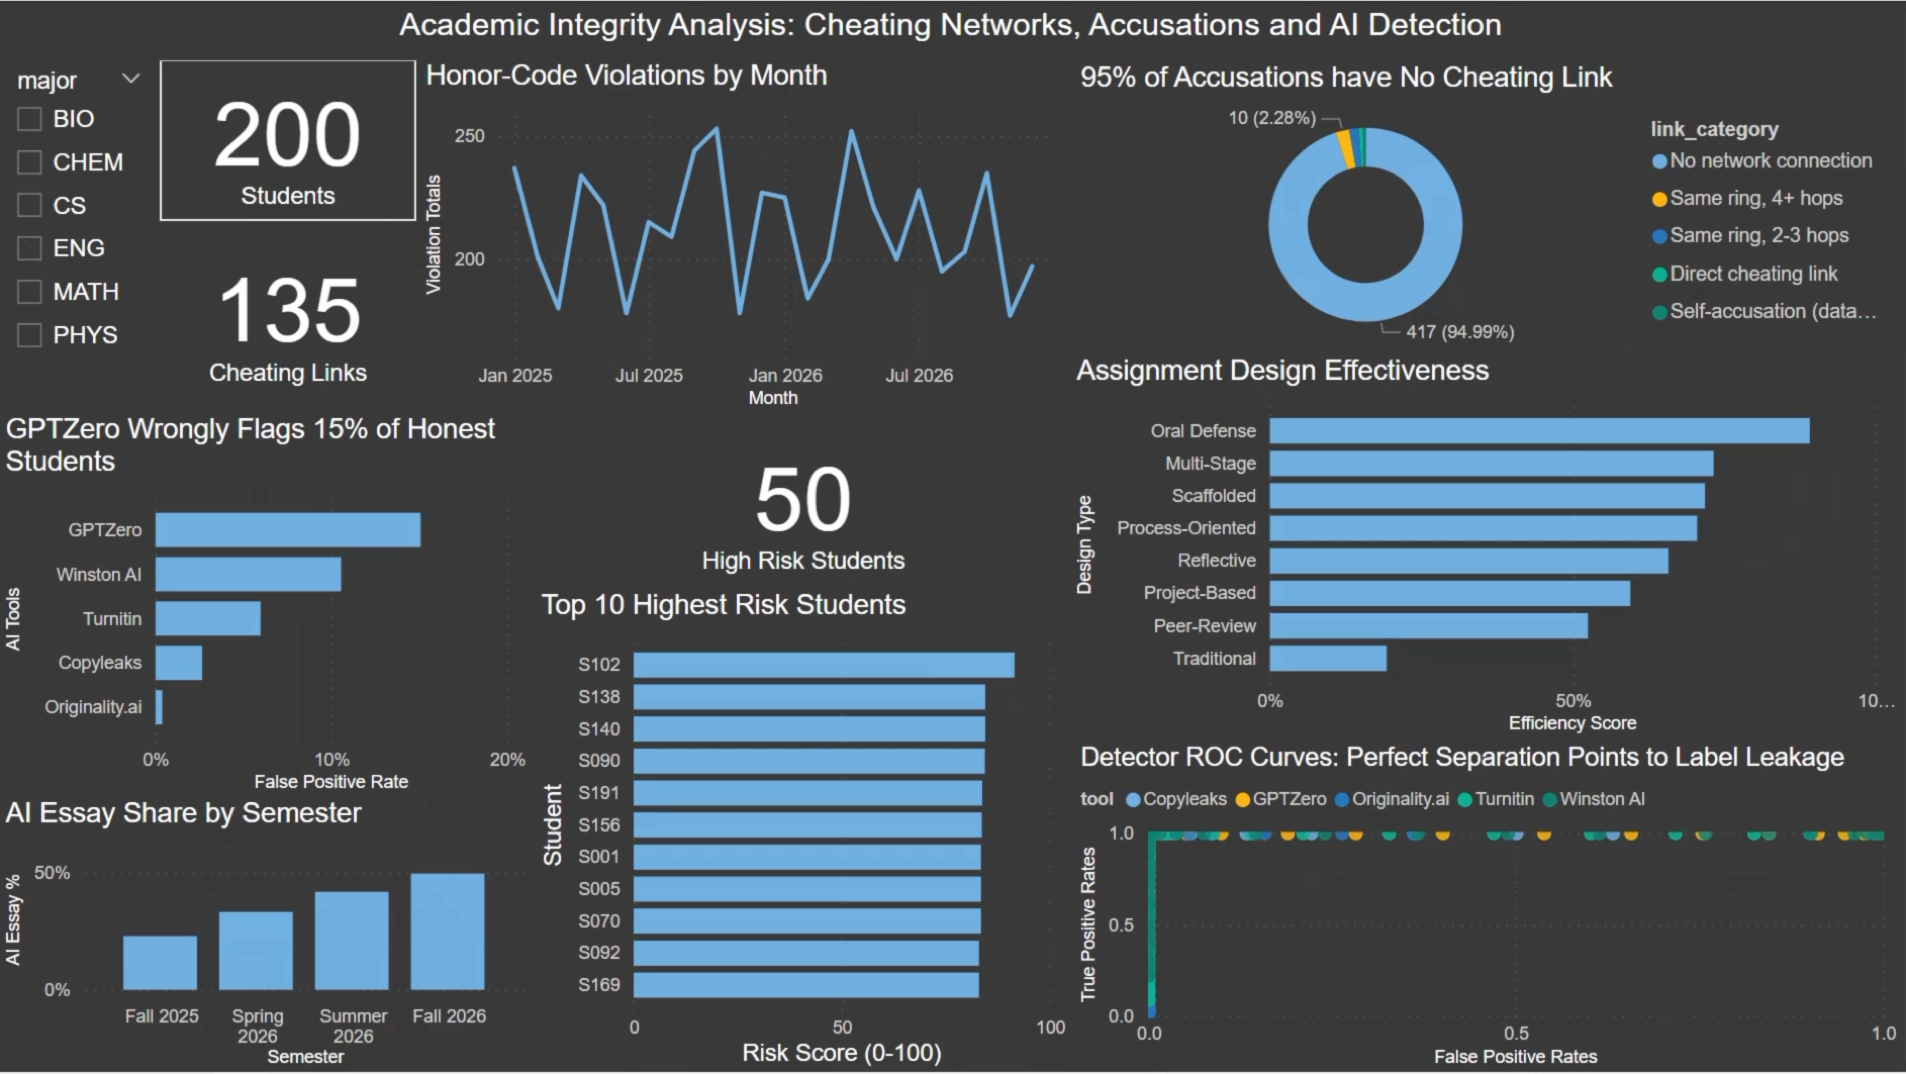

The dashboard page shown, as its layout file describes it:
{"tool":"powerbi","page":{"name":"Page 1","canvas":[1280,720],"ordinal":0},"visuals":[{"type":"card","fields":{"Values":["Count(students.student_id)"]},"box":[108.4,40.9,172.4,108.4],"z":0},{"type":"card","fields":{"Values":["CountNonNull(v_edges_enriched.edge_id)"]},"box":[108.2,149.3,172.2,128],"z":1},{"type":"card","fields":{"Values":["students.High Risk Students"]},"box":[359.2,278.7,362.3,120.8],"z":3},{"type":"clusteredBarChart","title":"GPTZero Wrongly Flags 15% of Honest Students","fields":{"Category":["v_detector_tool_summary.tool"],"Y":["Sum(v_detector_tool_summary.false_positive_rate)"]},"box":[0,277.3,359.6,259],"z":4},{"type":"donutChart","title":"95% of Accusations have No Cheating Link","fields":{"Category":["accusation_network_link.link_category"],"Y":["CountNonNull(accusation_network_link.accusation_id)"]},"box":[721.5,41.8,557.4,198.2],"z":5},{"type":"clusteredBarChart","title":"Top 10 Highest Risk Students","fields":{"Category":["v_student_risk.student_id"],"Y":["Sum(v_student_risk.risk_score)"]},"box":[359.2,396.4,362.3,325.2],"z":6},{"type":"lineChart","title":"Honor-Code Violations by Month","fields":{"Category":["v_violations_monthly.month_start"],"Y":["Sum(v_violations_monthly.violations)"]},"box":[281.8,40.3,439.7,238.5],"z":7},{"type":"clusteredColumnChart","title":"AI Essay Share by Semester","fields":{"Category":["essay_submissions.semester"],"Y":["Avg(essay_submissions.is_ai_generated)"]},"box":[0,535.7,359.2,185.8],"z":8},{"type":"clusteredBarChart","title":"Assignment Design Effectiveness","fields":{"Category":["assignment_design.design_type"],"Y":["Avg(assignment_design.efficacy_score)"]},"box":[719.2,239.2,559.2,259],"z":9},{"type":"scatterChart","title":"Detector ROC Curves: Perfect Separation Points to Label Leakage","fields":{"X":["detector_roc.fpr"],"Series":["detector_roc.tool"],"Y":["detector_roc.tpr"]},"box":[720.9,498.8,557.2,222.1],"z":10},{"type":"slicer","fields":{"Values":["students.major"]},"box":[0,41.1,108.2,236.2],"z":11},{"type":"textbox","box":[0,0,1278.7,41.3],"z":12}]}

Visuals, with their boxes in screenshot pixels (x1, y1, x2, y2), scaled from the page's 1280x720 canvas onto the 1906x1074 screenshot:
card - Count(students.student_id): bbox(161, 61, 418, 223)
card - CountNonNull(v_edges_enriched.edge_id): bbox(161, 223, 418, 414)
card - students.High Risk Students: bbox(535, 416, 1074, 596)
"GPTZero Wrongly Flags 15% of Honest Students" clusteredBarChart: bbox(0, 414, 535, 800)
"95% of Accusations have No Cheating Link" donutChart: bbox(1074, 62, 1904, 358)
"Top 10 Highest Risk Students" clusteredBarChart: bbox(535, 591, 1074, 1073)
"Honor-Code Violations by Month" lineChart: bbox(420, 60, 1074, 416)
"AI Essay Share by Semester" clusteredColumnChart: bbox(0, 799, 535, 1073)
"Assignment Design Effectiveness" clusteredBarChart: bbox(1071, 357, 1904, 743)
"Detector ROC Curves: Perfect Separation Points to Label Leakage" scatterChart: bbox(1073, 744, 1903, 1073)
slicer - students.major: bbox(0, 61, 161, 414)
textbox: bbox(0, 0, 1904, 62)
